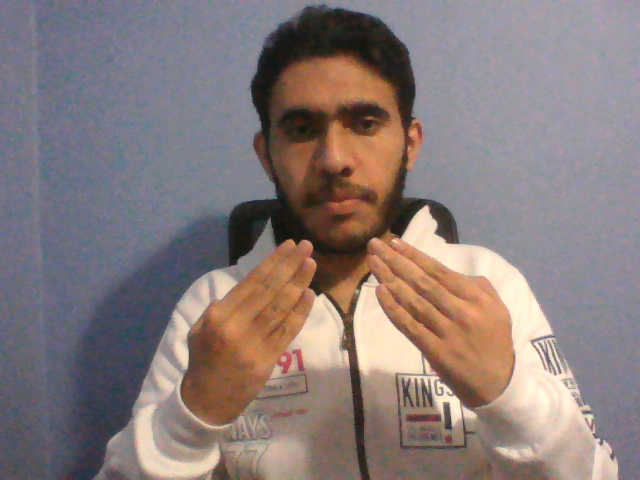thanks: (180, 227, 519, 432)
